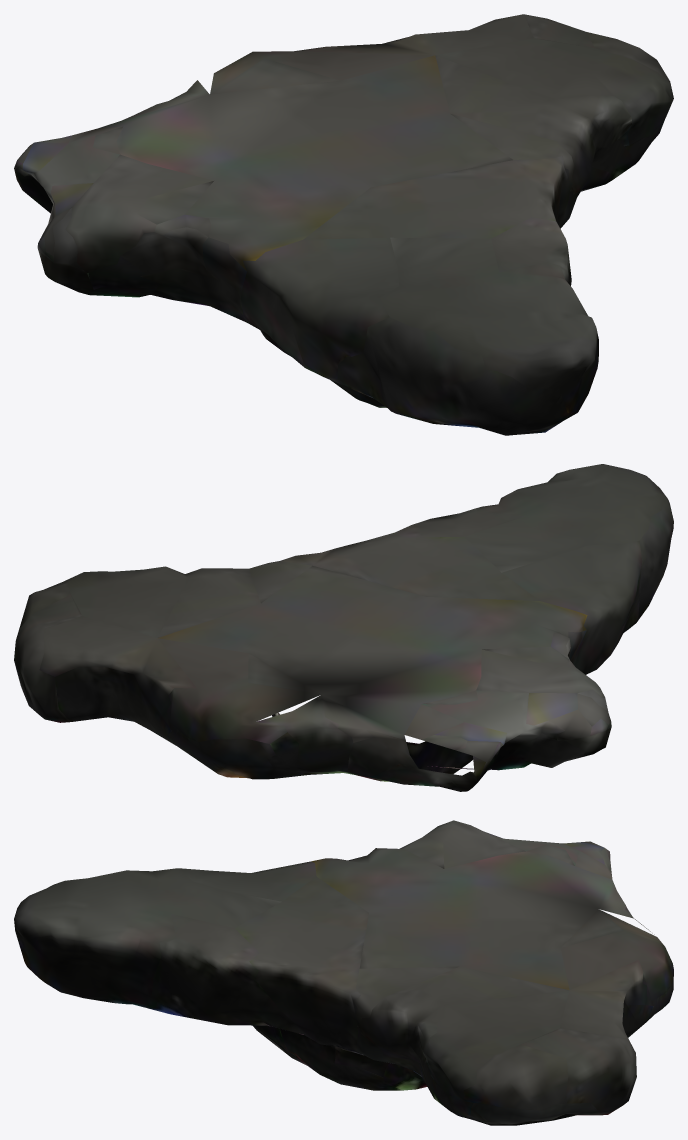
File: hall.glb
3 renders of one model, top to bottom at view 1: azimuth 30°, elevation 25°; view 2: azimuth 150°, elevation 25°; view 3: azimuth 270°, elevation 25°, orthographic. The views are drawn at different scales.
Bounding box in the file's own units: 0.5257 × 0.1369 × 0.5741.
1 material, 1 textured.
